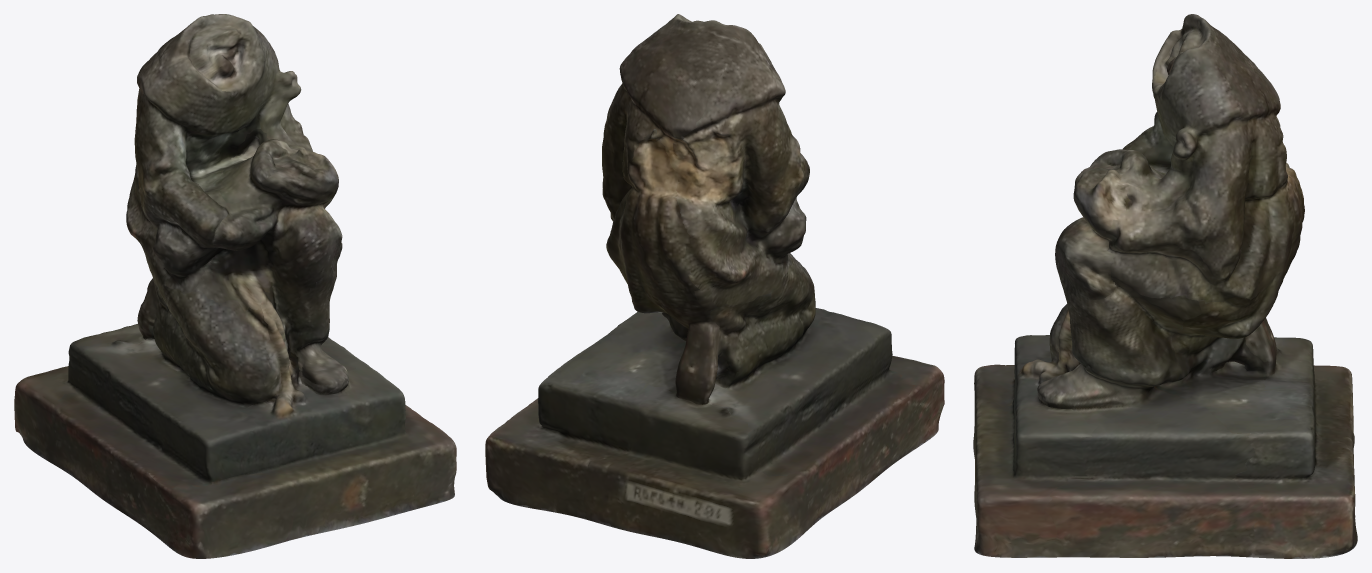
The model's file is san-antonio-de-padua.glb.
3 renders of one model, left to right at view 1: azimuth 30°, elevation 25°; view 2: azimuth 150°, elevation 25°; view 3: azimuth 270°, elevation 25°, orthographic. The views are drawn at different scales.
Visible parts, largest first — view 1: san-antonio-de-padua; view 2: san-antonio-de-padua; view 3: san-antonio-de-padua.
Boxes of the visible parts, x1=… form: san-antonio-de-padua: x1=14, y1=14, x2=456, y2=558; san-antonio-de-padua: x1=485, y1=14, x2=944, y2=558; san-antonio-de-padua: x1=973, y1=14, x2=1357, y2=558.
Bounding box in the file's own units: 0.6451 × 1 × 0.7524.
2 materials, 2 textured.
